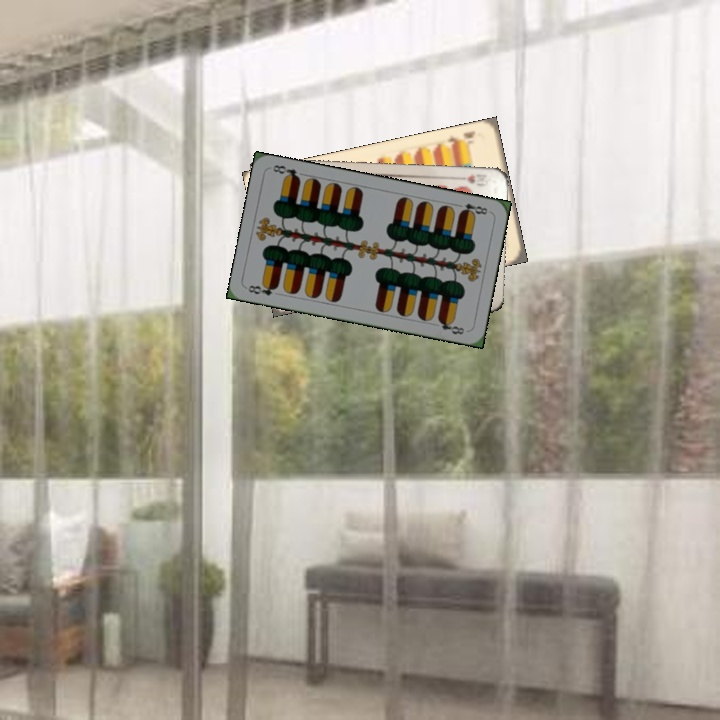E10: (443, 127, 478, 150)
E8: (452, 199, 490, 218), (244, 280, 281, 298)
H10: (452, 170, 493, 188)
